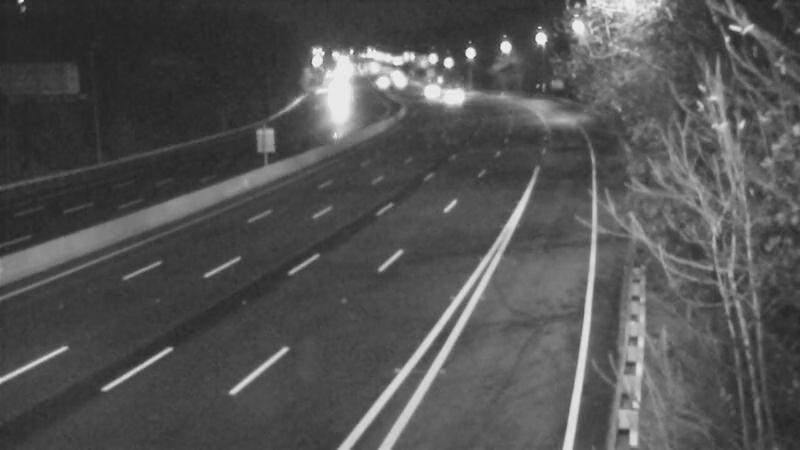vehicle: (373, 56, 423, 106), (353, 55, 403, 105), (408, 64, 458, 114), (430, 71, 480, 121), (306, 72, 356, 122)
